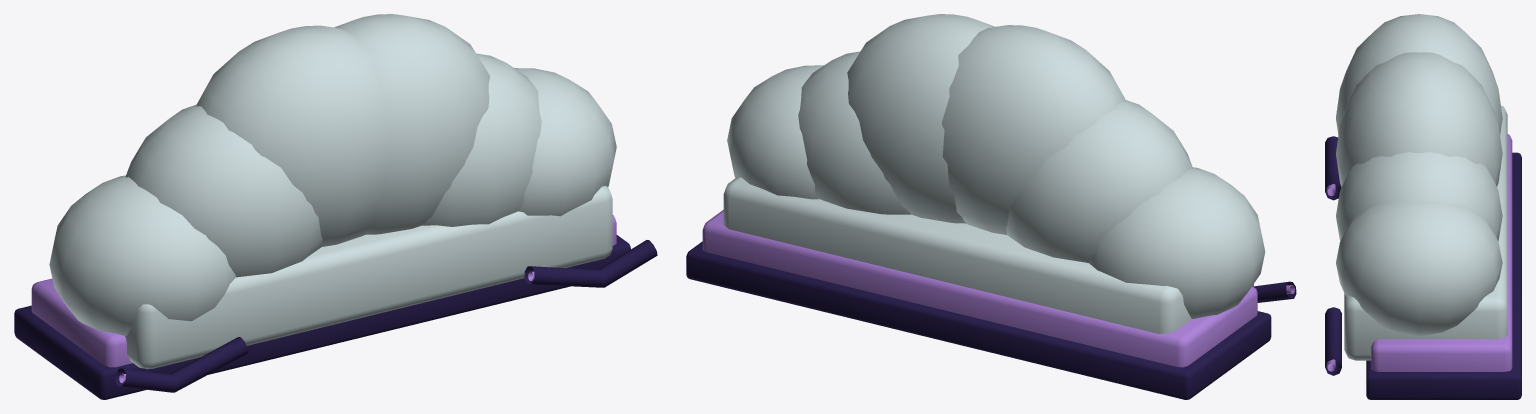
Rendered from r017_sky_lagoon_cloud_family_cloud_02.glb.
The picture shows the model from 3 angles, left to right: view 1: azimuth 30°, elevation 25°; view 2: azimuth 150°, elevation 25°; view 3: azimuth 270°, elevation 25°; orthographic projection. The views are drawn at different scales.
Visible parts, largest first — view 1: r017_sky_lagoon_cloud_family_cloud_02.001; view 2: r017_sky_lagoon_cloud_family_cloud_02.001; view 3: r017_sky_lagoon_cloud_family_cloud_02.001.
Boxes of the visible parts, bbox=[...] form: r017_sky_lagoon_cloud_family_cloud_02.001: bbox=[14, 14, 657, 399]; r017_sky_lagoon_cloud_family_cloud_02.001: bbox=[686, 14, 1296, 399]; r017_sky_lagoon_cloud_family_cloud_02.001: bbox=[1325, 14, 1521, 399].
Size of the model in its own units: 4.85 by 2.46 by 1.75.
